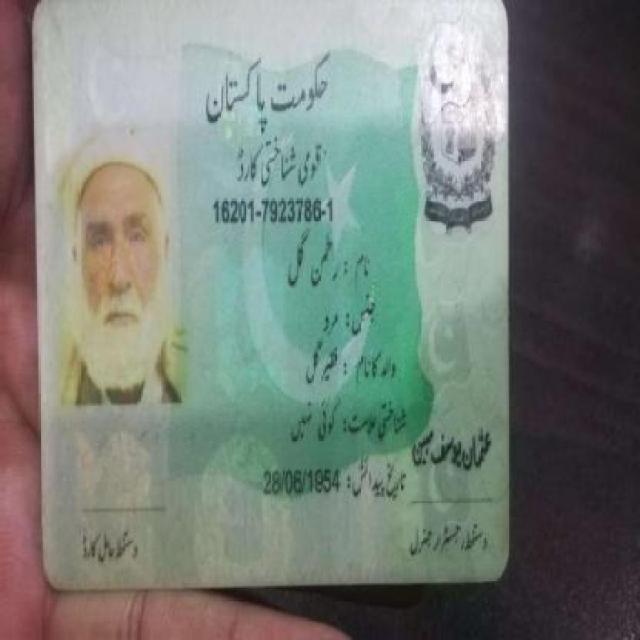Front: (28, 4, 515, 582)
